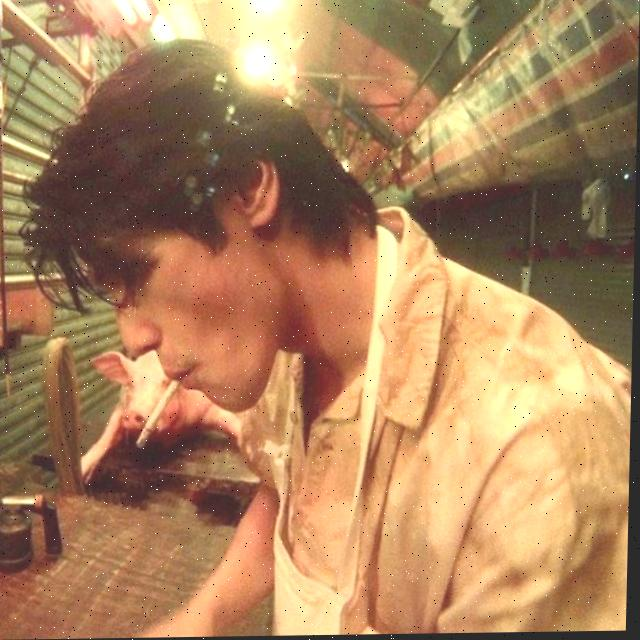cigarette: (140, 380, 182, 448)
